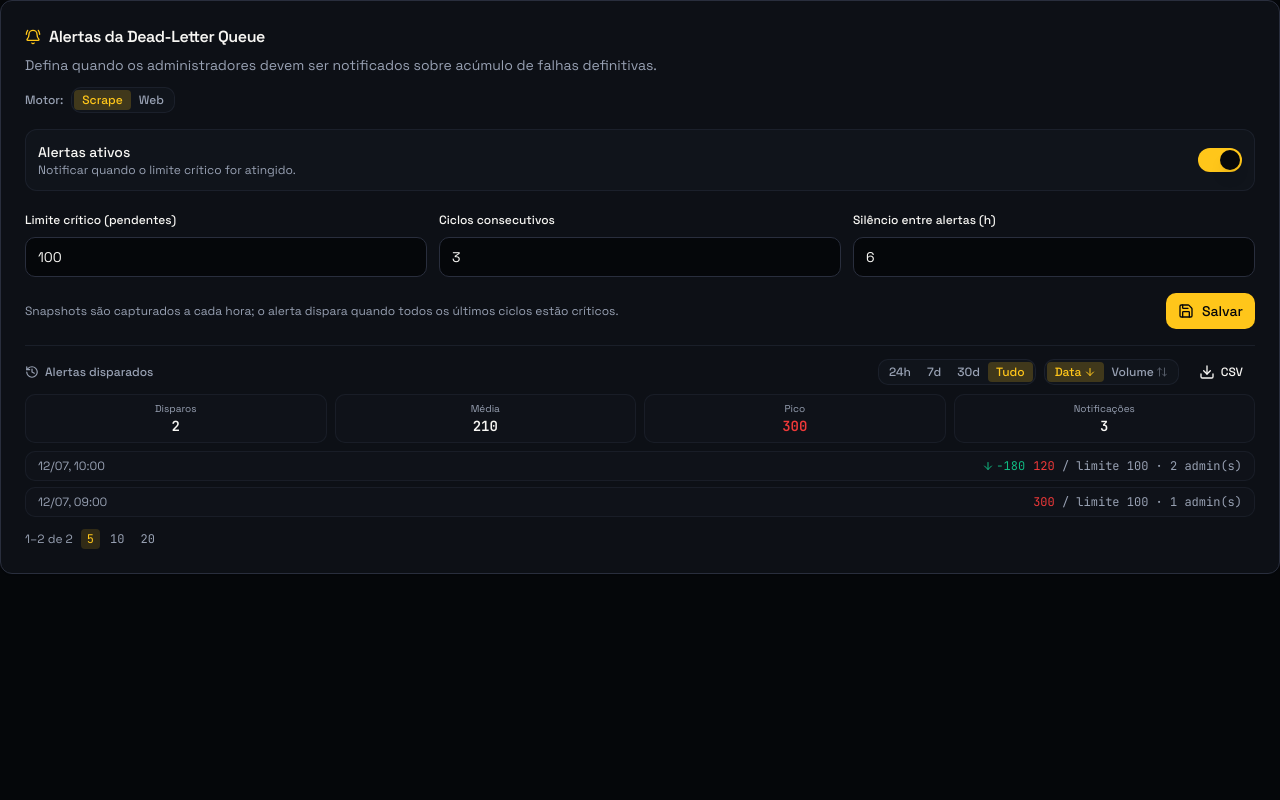
it: DlqAlertSettingsCard › persiste o tamanho de página selecionado
Click the button "10" at (117, 539), box [104,529,130,549]
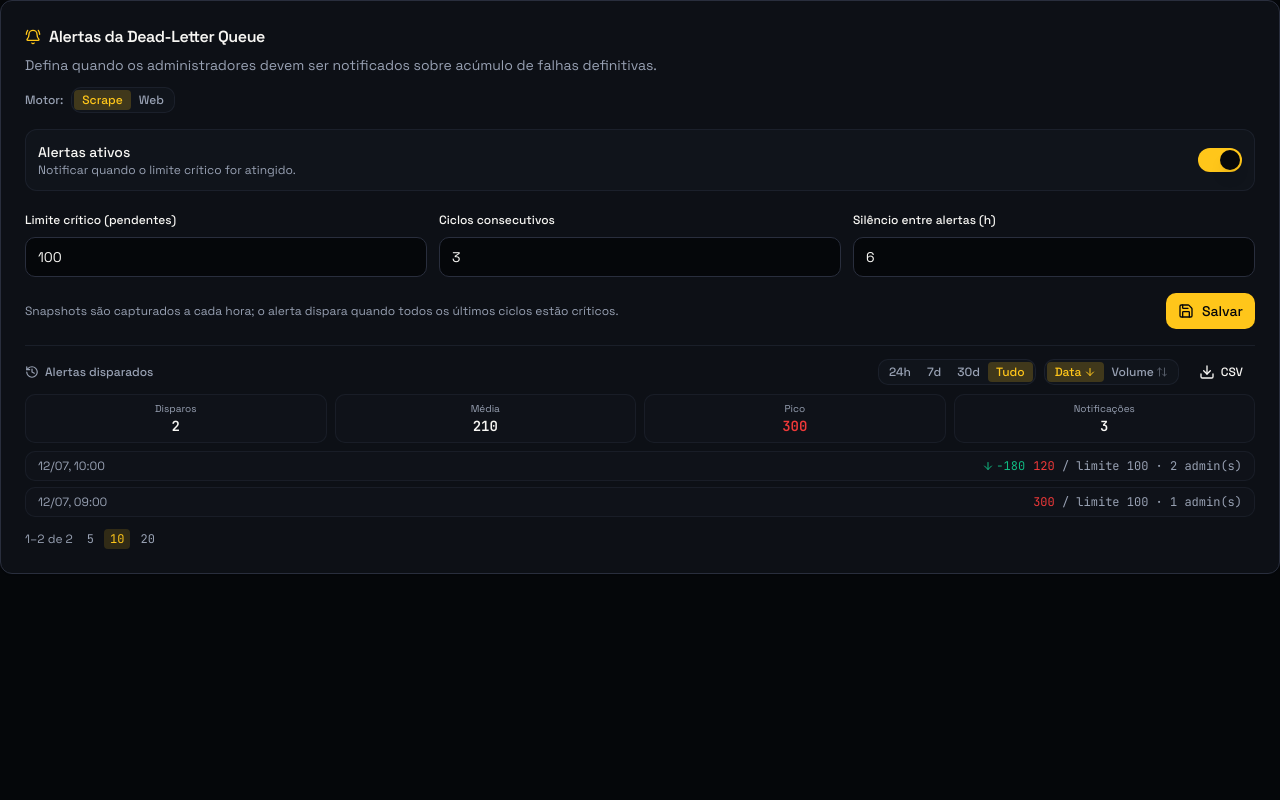
Expected: the button "10" is pressed, [104,529,130,549]
Expected: the button "5" is not pressed, [81,529,100,549]
